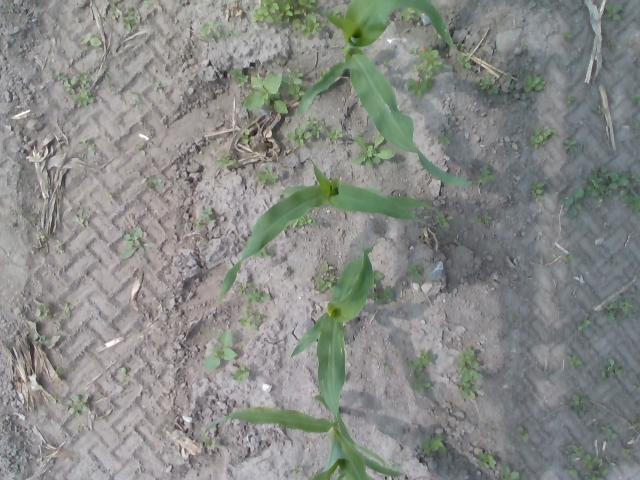Maize: (295, 0, 498, 191), (216, 161, 442, 307), (292, 241, 391, 468), (196, 393, 406, 480)
Weeds: (583, 166, 640, 212), (243, 73, 288, 114), (408, 47, 444, 98), (564, 441, 608, 480), (403, 350, 439, 395), (453, 346, 482, 398), (353, 134, 395, 168), (54, 71, 94, 106), (204, 330, 237, 372), (287, 115, 324, 146), (251, 0, 293, 25), (108, 0, 138, 30), (292, 13, 326, 38), (120, 226, 144, 260), (52, 393, 90, 414), (236, 282, 270, 305), (28, 321, 58, 347), (280, 68, 305, 99), (600, 301, 634, 323), (563, 185, 584, 220), (530, 123, 559, 148), (316, 262, 340, 292), (240, 241, 277, 260), (568, 394, 597, 418), (598, 357, 627, 380), (364, 270, 384, 300), (239, 306, 261, 331), (421, 433, 446, 453), (257, 164, 278, 186), (522, 73, 545, 93), (475, 76, 499, 95), (288, 212, 316, 227), (229, 68, 250, 87), (399, 5, 422, 22), (496, 465, 522, 480), (477, 450, 497, 469), (374, 286, 394, 304), (200, 21, 221, 38), (602, 3, 622, 20), (198, 208, 215, 228), (434, 212, 454, 229), (217, 152, 238, 168), (292, 0, 317, 13), (80, 136, 97, 155), (565, 352, 584, 369), (79, 32, 102, 46), (600, 423, 618, 440), (232, 364, 249, 382), (514, 425, 530, 444), (530, 180, 545, 200), (72, 212, 90, 228), (238, 128, 256, 144), (456, 51, 472, 69), (144, 176, 164, 190), (326, 126, 342, 142), (405, 264, 423, 278), (474, 212, 492, 226), (34, 302, 48, 318), (328, 9, 341, 26), (479, 164, 490, 184), (436, 132, 451, 146), (564, 138, 578, 153), (288, 466, 302, 480), (578, 317, 592, 331), (59, 301, 71, 317), (620, 447, 634, 460), (203, 436, 215, 450), (36, 230, 50, 241), (226, 28, 240, 38), (153, 80, 163, 92), (561, 252, 573, 262), (136, 146, 146, 156), (519, 40, 529, 50), (562, 30, 574, 38), (102, 69, 112, 78), (118, 366, 128, 374), (381, 361, 389, 371), (396, 158, 404, 168), (566, 94, 574, 103), (596, 106, 604, 115), (458, 40, 466, 49), (635, 94, 640, 106), (319, 71, 327, 78), (380, 60, 388, 66), (144, 0, 152, 6), (134, 99, 140, 105), (636, 384, 640, 392)
